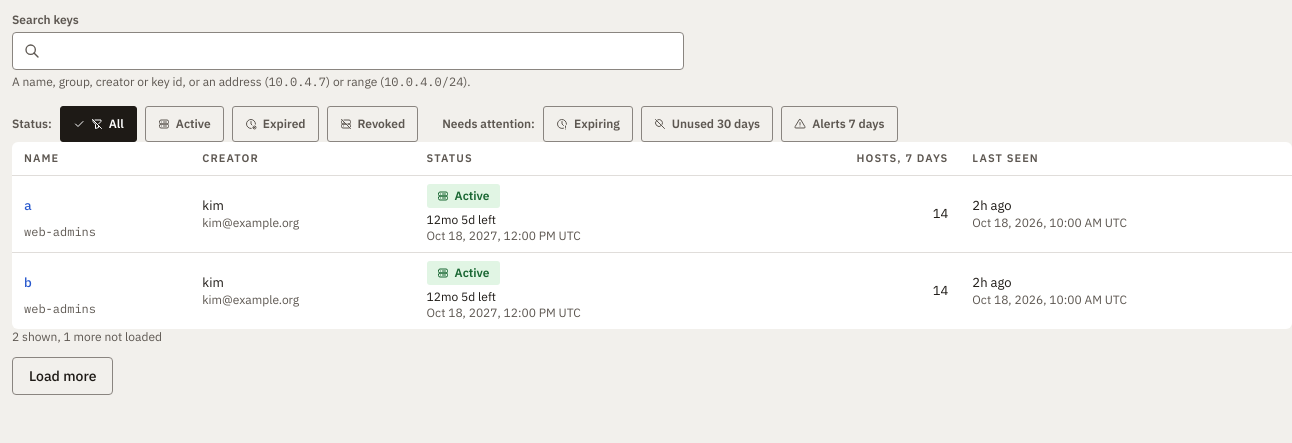
Scenario: NSS admin key list states › should append the next page when Load more is pressed
Click the button with test id "nss-admin-keys-load-more" at (63, 376), box [12,356,114,394]
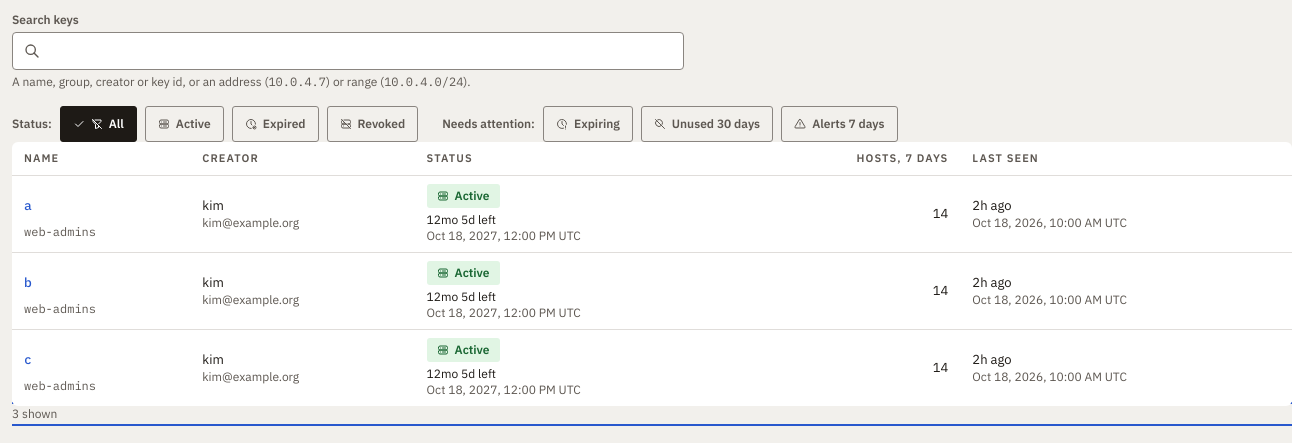
expect the number of rows with test id "nss-admin-keys-row" is 3: met, box [12,175,1291,252]; [12,252,1291,329]; [12,329,1291,406]
